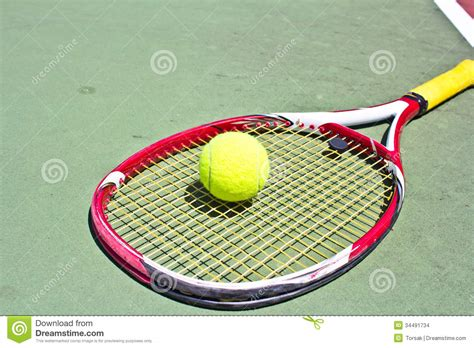tennis_ball: (198, 131, 270, 200)
